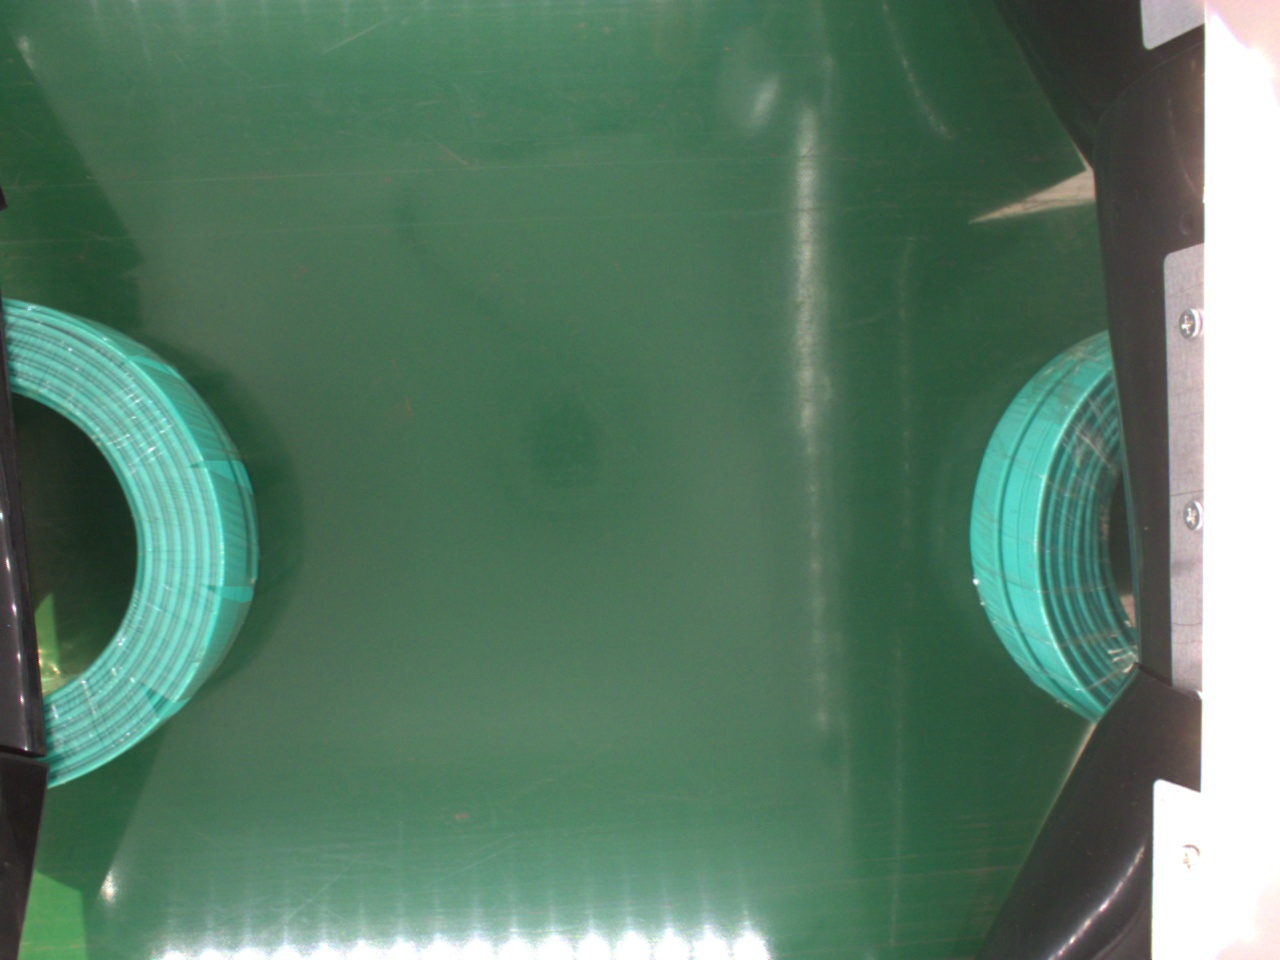green: (8, 292, 261, 789), (972, 330, 1134, 726)
